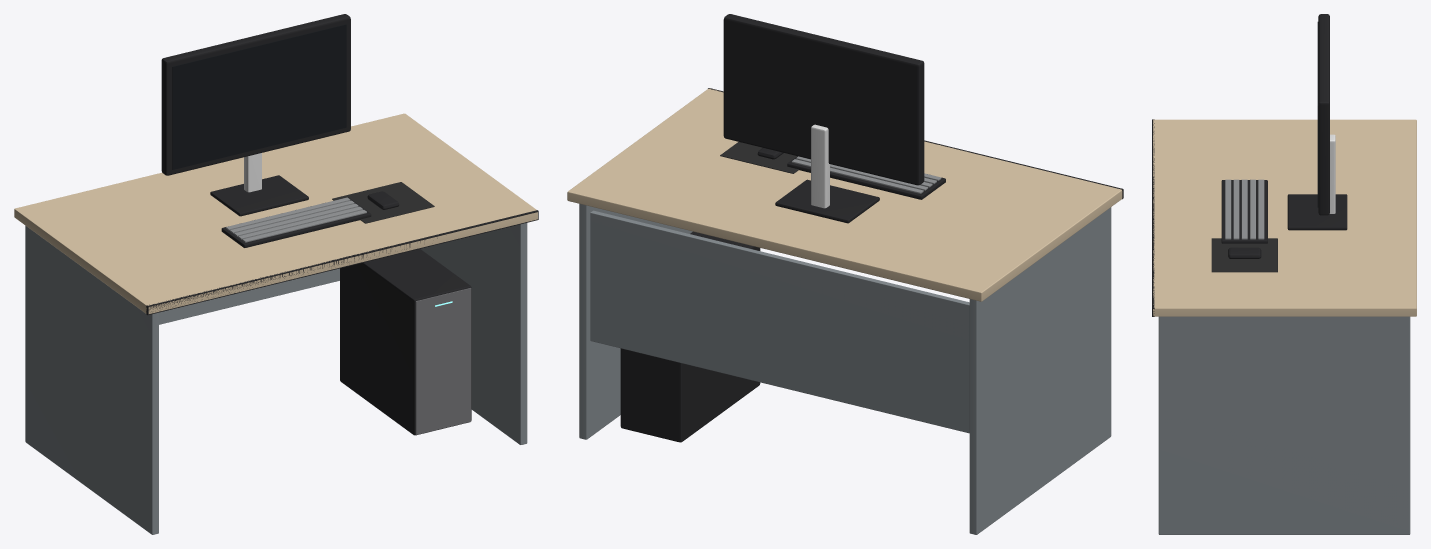
Rendered from parts_computer.glb.
The picture shows the model from 3 angles, left to right: view 1: azimuth 30°, elevation 25°; view 2: azimuth 150°, elevation 25°; view 3: azimuth 270°, elevation 25°; orthographic projection. The views are drawn at different scales.
Parts seen in each view (by area): view 1: SM_parts_computer; view 2: SM_parts_computer; view 3: SM_parts_computer.
Part boxes in pixels (<box>): SM_parts_computer: <box>14,14,538,534</box>; SM_parts_computer: <box>567,14,1123,534</box>; SM_parts_computer: <box>1152,14,1416,534</box>.
Bounding box in the file's own units: 1.35 × 1.29 × 0.8.
